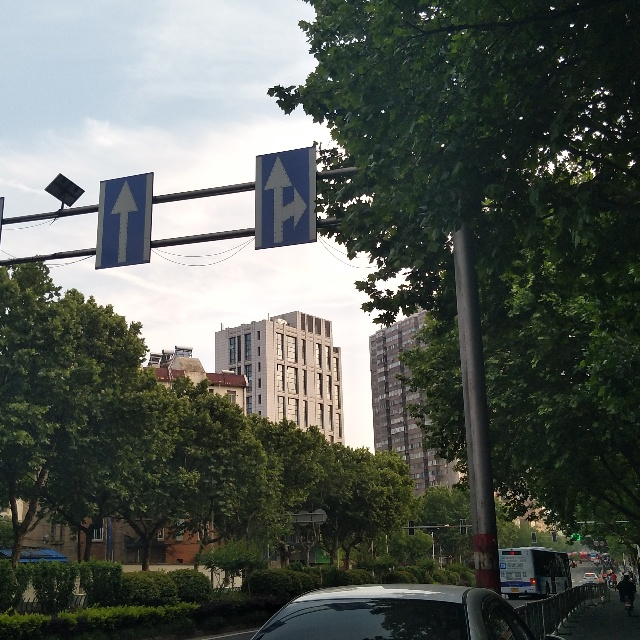straight: (102, 177, 150, 267)
